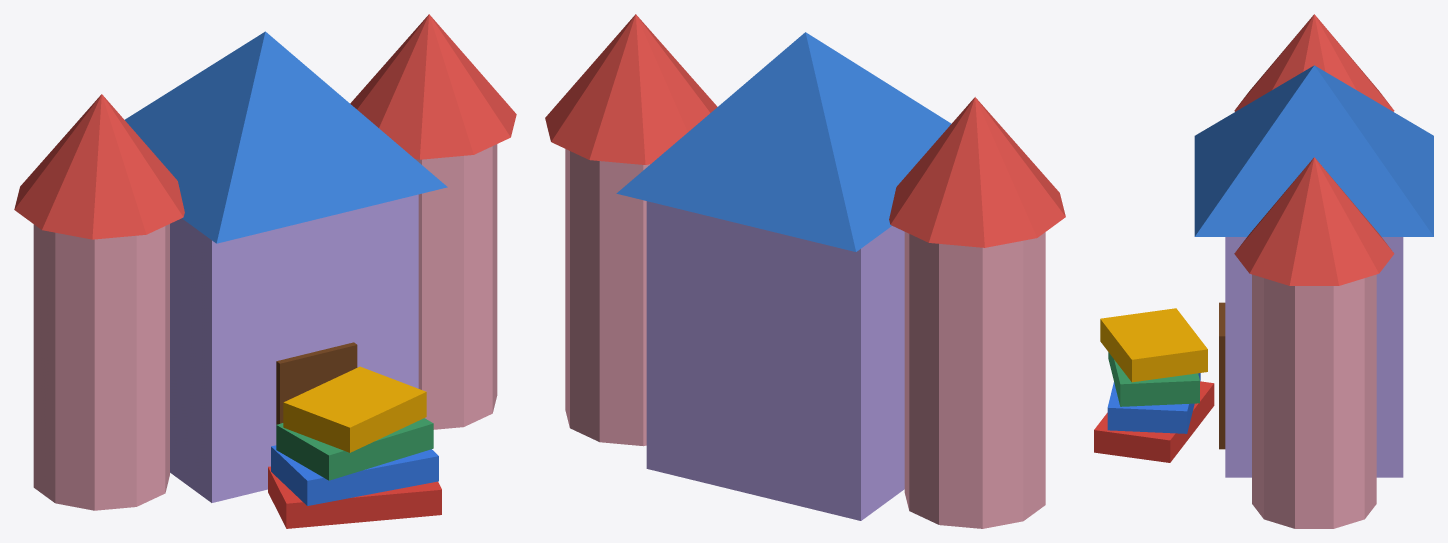
The model's file is b_story.glb.
3 renders of one model, left to right at view 1: azimuth 30°, elevation 25°; view 2: azimuth 150°, elevation 25°; view 3: azimuth 270°, elevation 25°, orthographic. The views are drawn at different scales.
Visible parts, largest first — view 1: Keep, Tower, KeepRoof, Tower.001, TRoof, TRoof.001, Book3, Book0, Book1, Book2, Door; view 2: Keep, Tower, KeepRoof, Tower.001, TRoof, TRoof.001; view 3: Tower.001, KeepRoof, Keep, TRoof.001, Book3, TRoof, Book0, Book2, Book1, Door.
Boxes of the visible parts, x1,y1,x2,y2 form: Keep: [170, 194, 418, 502]; Tower: [33, 224, 169, 510]; KeepRoof: [125, 31, 447, 243]; Tower.001: [415, 144, 497, 429]; TRoof: [14, 94, 184, 239]; TRoof.001: [350, 14, 516, 159]; Book3: [283, 366, 426, 452]; Book0: [268, 466, 441, 528]; Book1: [271, 445, 438, 505]; Book2: [276, 418, 433, 480]; Door: [276, 342, 357, 424]; Keep: [646, 201, 904, 520]; Tower: [904, 232, 1045, 528]; KeepRoof: [616, 32, 951, 251]; Tower.001: [565, 149, 649, 446]; TRoof: [889, 97, 1065, 247]; TRoof.001: [545, 14, 717, 164]; Tower.001: [1252, 274, 1376, 528]; KeepRoof: [1194, 65, 1433, 236]; Keep: [1225, 237, 1403, 477]; TRoof.001: [1234, 157, 1394, 285]; Book3: [1100, 308, 1207, 382]; TRoof: [1234, 14, 1394, 111]; Book0: [1094, 381, 1214, 462]; Book2: [1108, 352, 1199, 406]; Book1: [1107, 373, 1200, 433]; Door: [1219, 302, 1225, 449].
Bounding box in the file's own units: 5.51 × 4.55 × 3.82.
